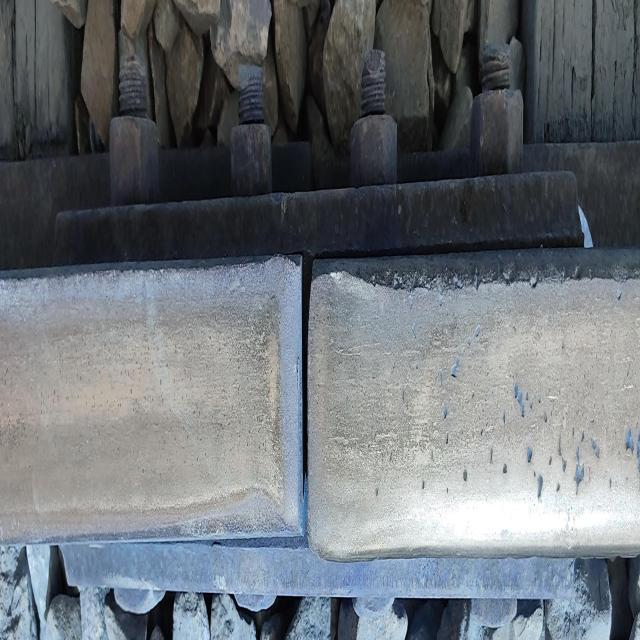Good Joint: (65, 123, 595, 629)
